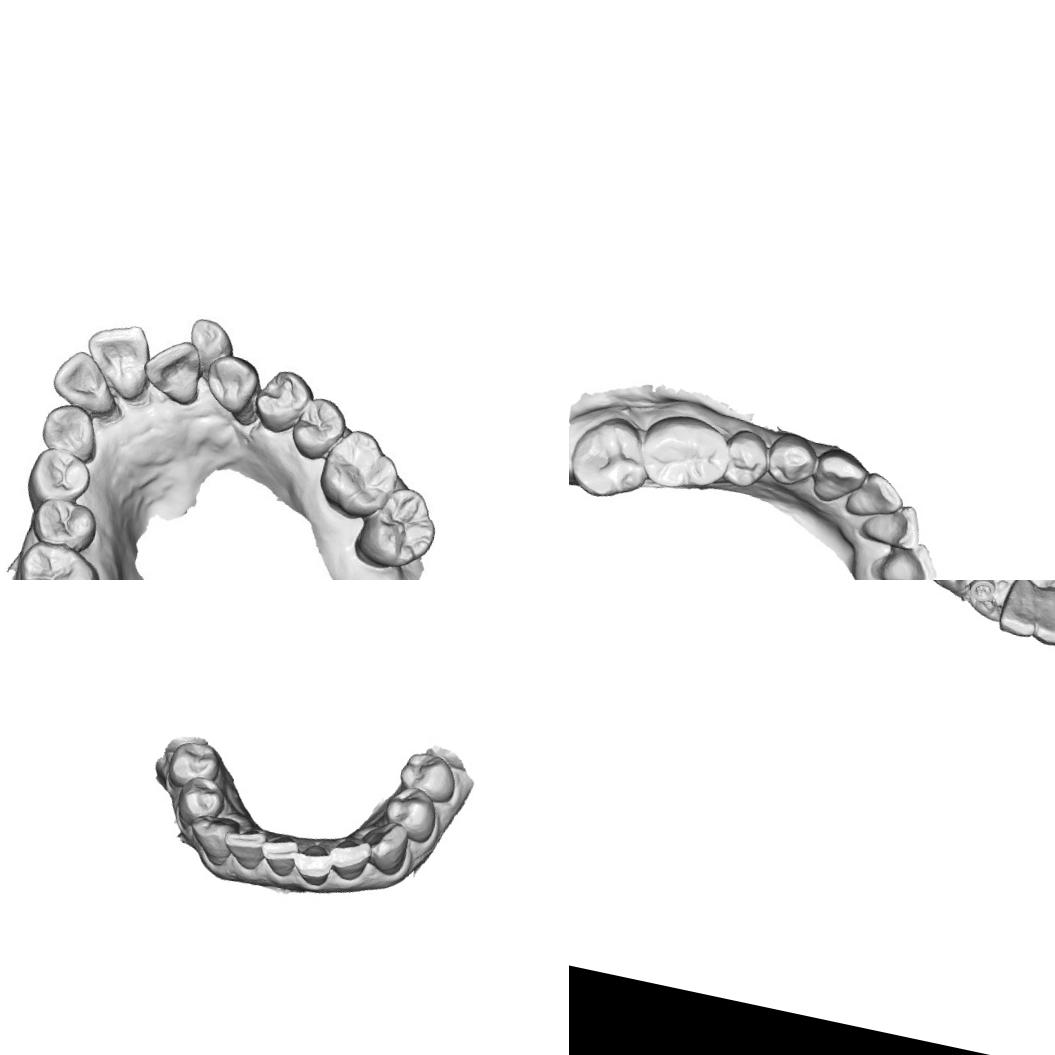canine: (198, 350, 262, 422), (38, 400, 106, 466), (345, 813, 413, 879), (808, 447, 871, 508), (183, 810, 243, 869)
implant: (964, 580, 1001, 610)
incisor: (76, 313, 160, 405), (45, 343, 131, 421), (147, 342, 212, 410), (858, 494, 926, 554), (842, 466, 905, 526), (180, 310, 239, 368), (992, 580, 1046, 640), (874, 535, 942, 580), (218, 820, 270, 872), (254, 830, 302, 880), (287, 840, 336, 888), (326, 836, 374, 884), (1027, 580, 1055, 648)
molar: (346, 477, 448, 580), (308, 423, 404, 528), (636, 406, 734, 500), (569, 408, 658, 505), (5, 538, 108, 580)
premolar: (20, 444, 95, 514), (282, 392, 352, 466), (252, 365, 317, 441), (27, 493, 102, 553), (379, 780, 442, 846), (394, 746, 461, 806), (163, 736, 225, 798), (763, 430, 823, 490), (172, 772, 230, 834), (720, 426, 773, 491), (919, 580, 991, 602)
